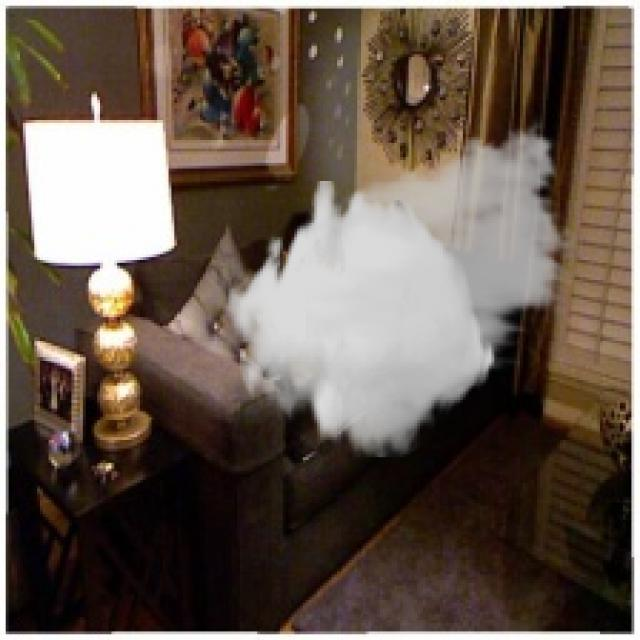smoke: (226, 114, 577, 457)
